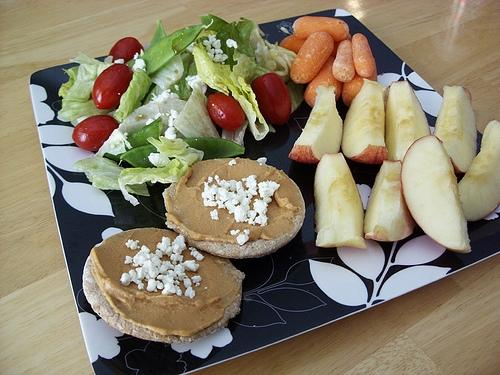apple: (401, 134, 472, 253), (314, 153, 368, 250), (288, 85, 344, 164), (457, 120, 500, 221), (364, 159, 414, 241), (341, 78, 388, 164), (433, 85, 478, 174), (385, 80, 431, 163)
carrot: (290, 31, 334, 84), (304, 56, 342, 108), (341, 63, 378, 108), (292, 16, 350, 42), (352, 33, 376, 78), (332, 39, 356, 82), (279, 34, 306, 54)
lettuce: (73, 98, 188, 190), (192, 42, 269, 141), (120, 137, 244, 186), (216, 19, 276, 78), (118, 158, 188, 206), (173, 75, 222, 139), (143, 19, 184, 91), (113, 68, 152, 124), (262, 39, 298, 84), (168, 53, 198, 102), (66, 64, 101, 102), (57, 100, 114, 122), (126, 116, 163, 148), (200, 13, 229, 32)
tomato: (251, 73, 292, 126), (92, 64, 133, 110), (72, 114, 119, 152), (206, 93, 246, 132), (108, 37, 145, 64)
